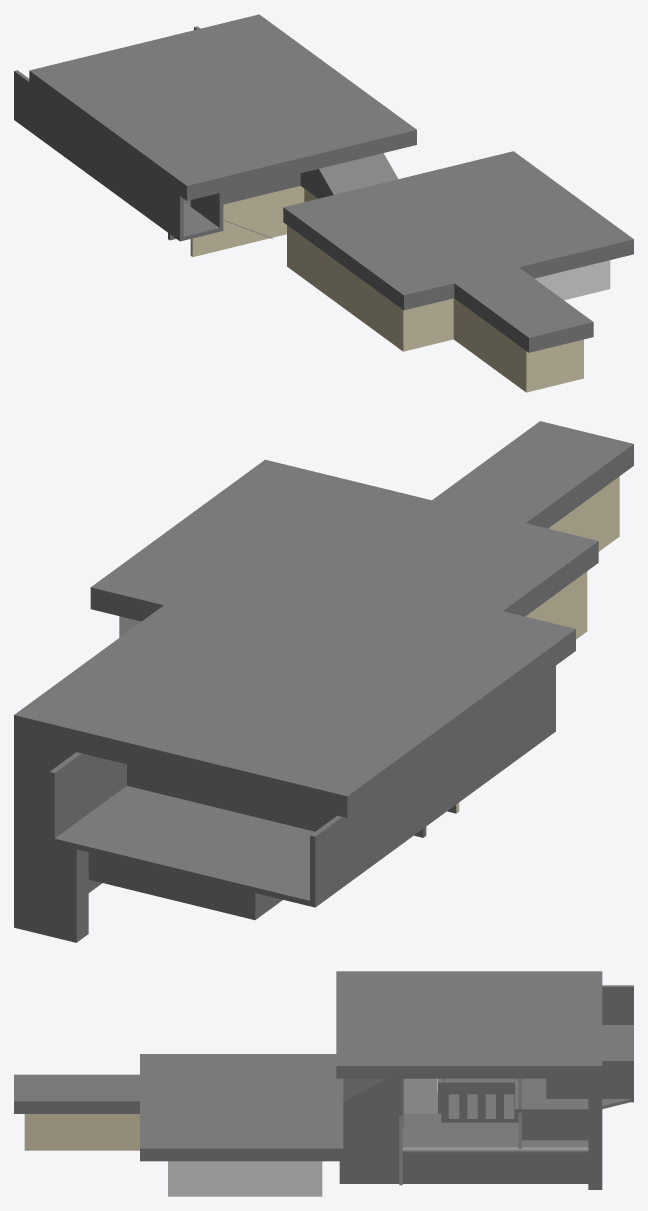
Rendered from Map.fbx.
3 renders of one model, top to bottom at view 1: azimuth 30°, elevation 25°; view 2: azimuth 150°, elevation 25°; view 3: azimuth 270°, elevation 25°, orthographic. The views are drawn at different scales.
Parts seen in each view (by area): view 1: Cube; view 2: Cube; view 3: Cube.
Part boxes in pixels (box(x1,y1,x2,y2)): Cube: box(14, 14, 633, 392); Cube: box(14, 421, 633, 942); Cube: box(14, 971, 633, 1196).
Bounding box in the file's own units: 4600 × 1950 × 8850.
